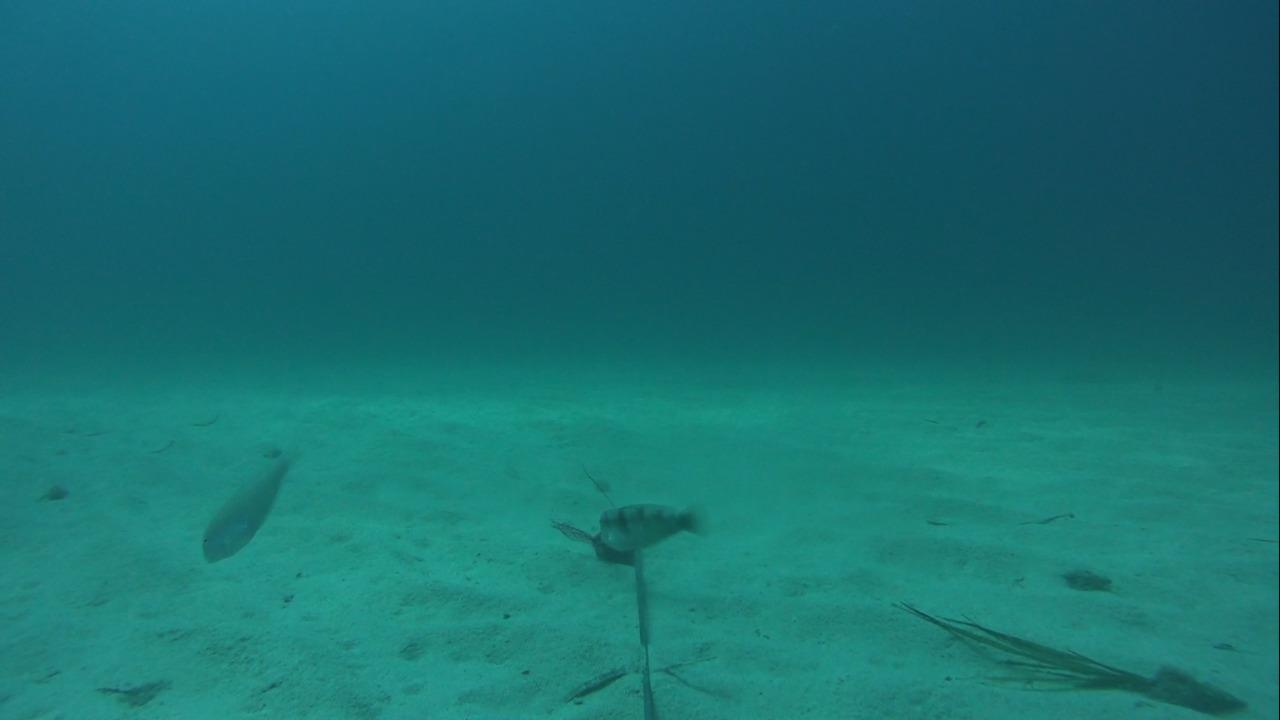raor: (195, 447, 293, 564), (594, 499, 711, 567)
